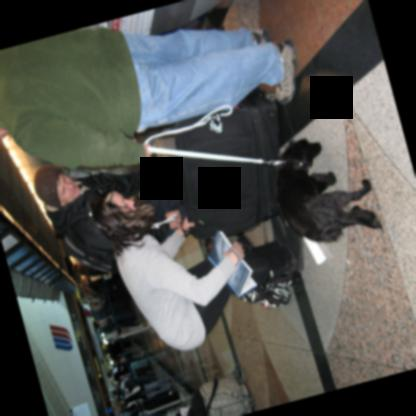backpack: (62, 232, 116, 272)
handbag: (240, 270, 290, 305)
suitcase: (174, 84, 282, 239)
